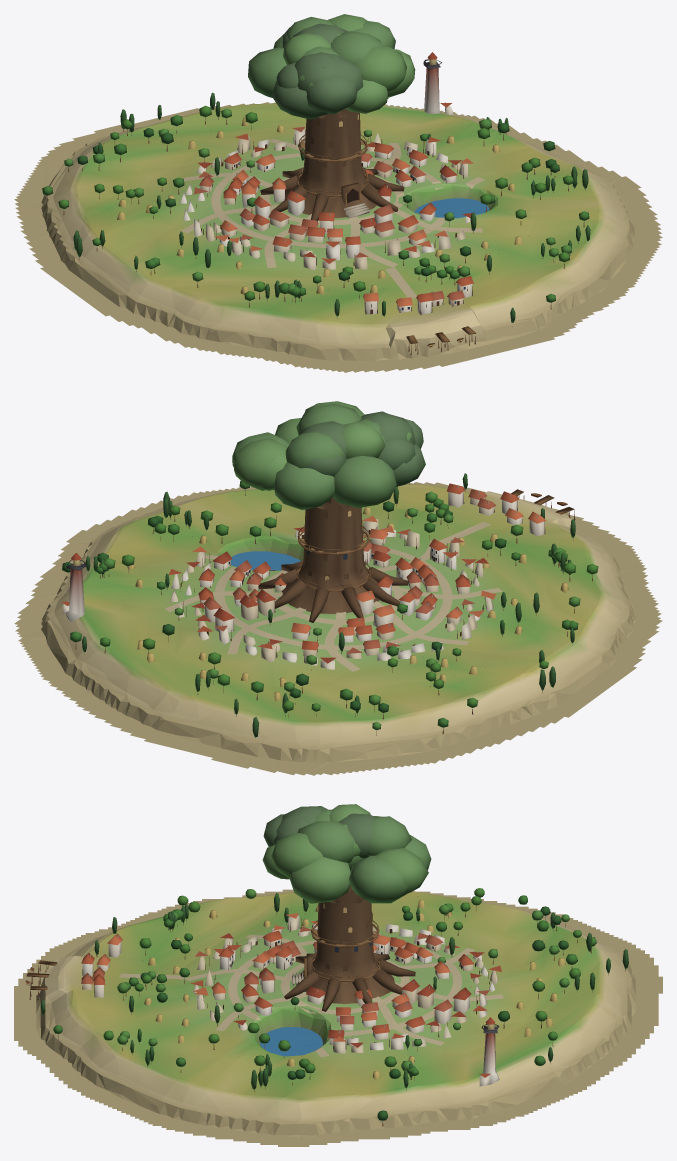
3 views of the same model, one above another, from view 1: azimuth 30°, elevation 25°; view 2: azimuth 150°, elevation 25°; view 3: azimuth 270°, elevation 25° (orthographic). The views are drawn at different scales.
Parts seen in each view (by area): view 1: BASE, VILLE_2, VILLE_3, VILLE_4; view 2: BASE, VILLE_2, VILLE_3, VILLE_4; view 3: BASE, VILLE_2, VILLE_3, VILLE_4.
Part boxes in pixels (x1,y1,x2,y2): BASE: (14, 14, 662, 372); VILLE_2: (180, 126, 474, 269); VILLE_3: (115, 117, 528, 294); VILLE_4: (423, 52, 453, 114); BASE: (14, 401, 662, 775); VILLE_2: (169, 516, 495, 669); VILLE_3: (127, 507, 568, 701); VILLE_4: (61, 552, 86, 621); BASE: (14, 804, 662, 1146); VILLE_2: (190, 913, 501, 1053); VILLE_3: (144, 896, 565, 1079); VILLE_4: (479, 1017, 499, 1086).
Size of the model in its own units: 68 by 24.36 by 72.5.
